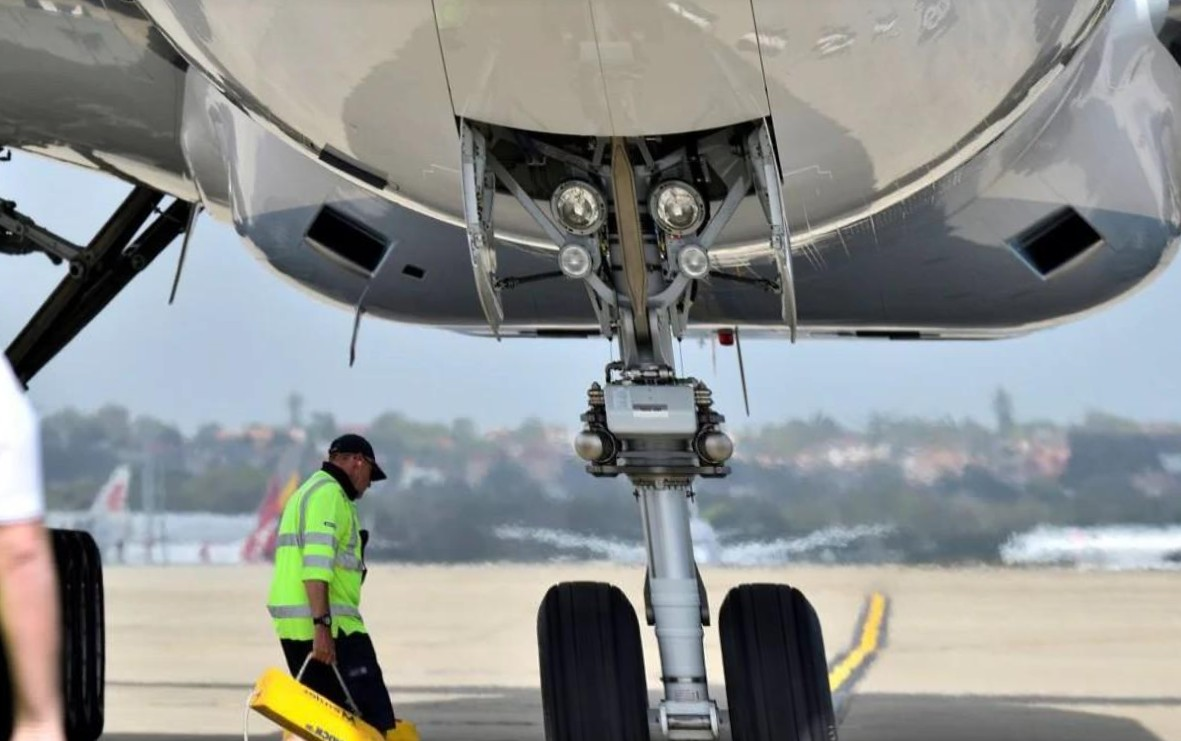chock: (244, 665, 395, 741), (282, 715, 424, 741)
wheel: (712, 582, 865, 741), (528, 581, 672, 741), (51, 530, 108, 741)
